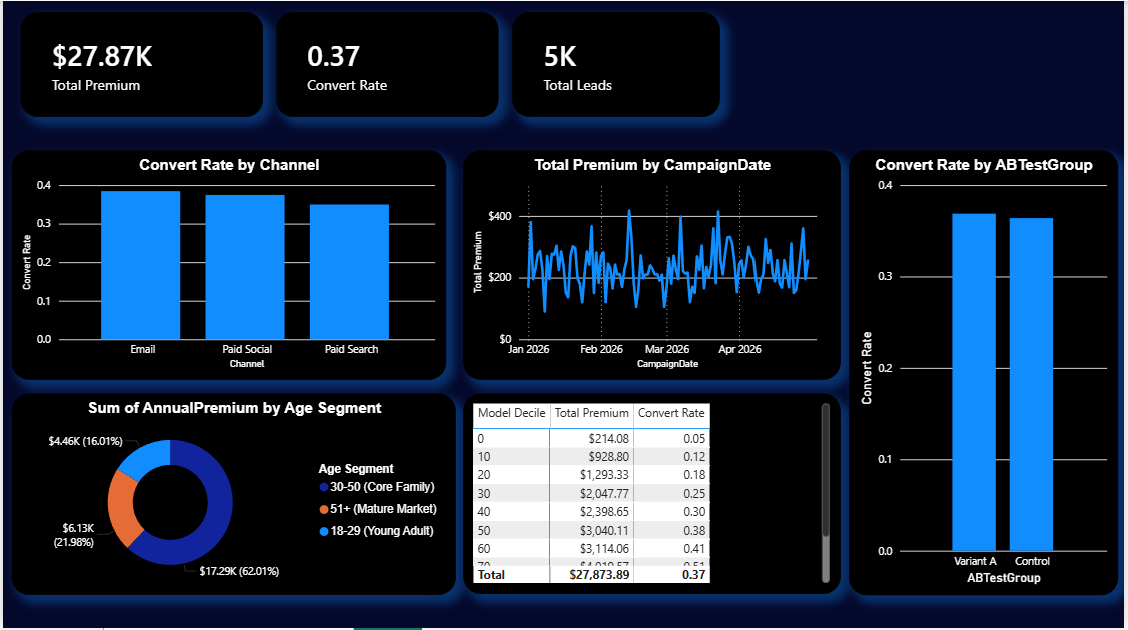

This screenshot's page, from the dashboard's own definition file:
{"tool":"powerbi","page":{"name":"Campaign Analysis","canvas":[1280,720],"ordinal":0},"visuals":[{"type":"cardVisual","fields":{"Data":["_Measures.Convert Rate"]},"box":[311.2,15,254.2,120.1],"z":0},{"type":"cardVisual","fields":{"Data":["_Measures.Total Premium"]},"box":[19,15,277.2,120.1],"z":1000},{"type":"cardVisual","fields":{"Data":["_Measures.Total Leads"]},"box":[582.5,15,237.2,120.1],"z":2000},{"type":"columnChart","fields":{"Category":["customer_conversions.Channel"],"Y":["_Measures.Convert Rate"]},"box":[10,174.1,496.4,262.2],"z":3000},{"type":"lineChart","fields":{"Y":["_Measures.Total Premium"],"Category":["customer_conversions.CampaignDate"]},"box":[526.4,174.1,430.3,262.2],"z":4000},{"type":"donutChart","fields":{"Category":["customer_conversions.Age Segment"],"Y":["Sum(customer_conversions.AnnualPremium)"]},"box":[10,451.4,507.4,230.2],"z":5000},{"type":"pivotTable","fields":{"Rows":["customer_conversions.Model Decile"],"Values":["_Measures.Total Premium","_Measures.Convert Rate"]},"box":[526.4,452.4,430.3,229.2],"z":6000},{"type":"columnChart","fields":{"Category":["customer_conversions.ABTestGroup"],"Y":["_Measures.Convert Rate"]},"box":[965.8,173.1,307.2,508.4],"z":6001}]}

Visuals, with their boxes in screenshot pixels (x1, y1, x2, y2), scaled from the page's 1280x720 canvas onto the 1128x630 screenshot:
cardVisual - _Measures.Convert Rate: bbox(274, 13, 498, 118)
cardVisual - _Measures.Total Premium: bbox(17, 13, 261, 118)
cardVisual - _Measures.Total Leads: bbox(513, 13, 722, 118)
columnChart - customer_conversions.Channel x _Measures.Convert Rate: bbox(9, 152, 446, 382)
lineChart - _Measures.Total Premium x customer_conversions.CampaignDate: bbox(464, 152, 843, 382)
donutChart - customer_conversions.Age Segment x Sum(customer_conversions.AnnualPremium): bbox(9, 395, 456, 596)
pivotTable - customer_conversions.Model Decile x _Measures.Total Premium: bbox(464, 396, 843, 596)
columnChart - customer_conversions.ABTestGroup x _Measures.Convert Rate: bbox(851, 151, 1122, 596)
